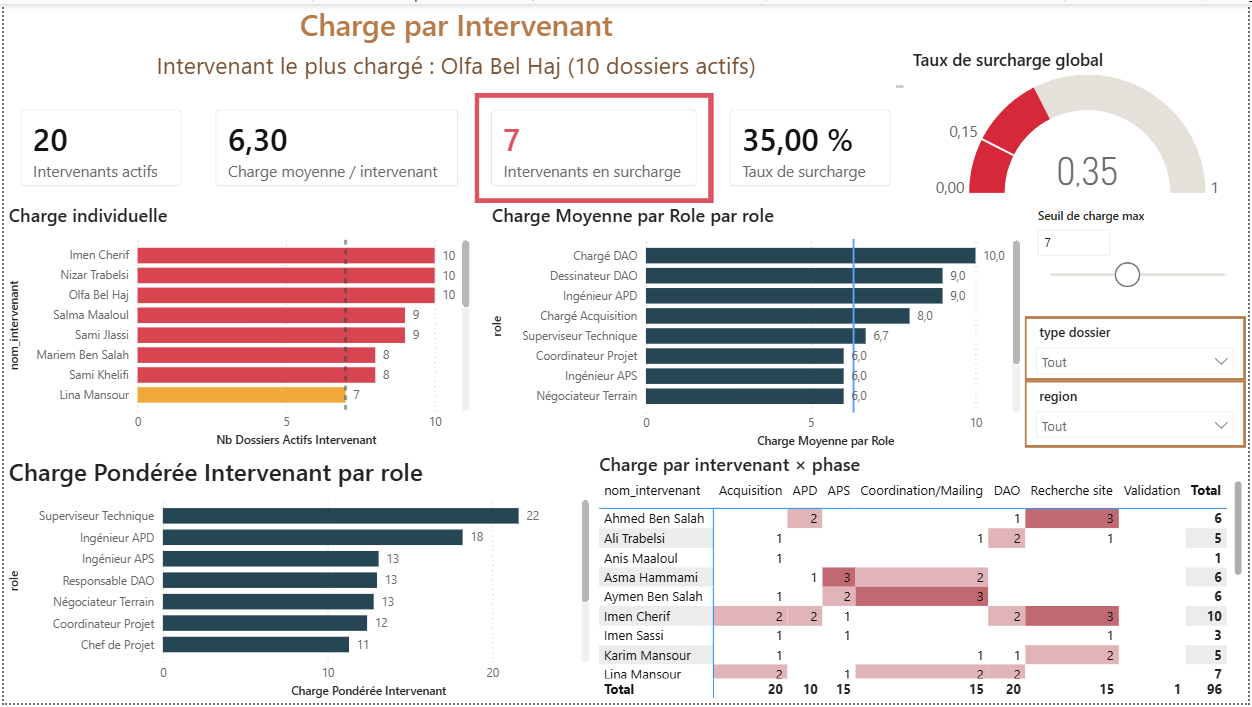

The dashboard page shown, as its layout file describes it:
{"tool":"powerbi","page":{"name":"Charges Intervenant","canvas":[1280,720],"ordinal":3},"visuals":[{"type":"slicer","fields":{"Values":["Dossier.region"]},"box":[1050.6,387.5,228.6,69.8],"z":0},{"type":"slicer","fields":{"Values":["Dossier.type_dossier"]},"box":[1050.6,320.7,228.6,66.8],"z":1000},{"type":"slicer","fields":{"Values":["Seuil de charge max.Seuil de charge max"]},"box":[1050.9,205.1,229,103.1],"z":2000},{"type":"textbox","title":"Charge par Intervenant","box":[0,0,931,91.5],"z":3000},{"type":"cardVisual","fields":{"Data":["Dossier_Intervenant.Nb Intervenants (contexte)"]},"box":[0,91,200.1,113.7],"z":4000},{"type":"cardVisual","fields":{"Data":["Dossier_Intervenant.Taux Intervenants Surcharge"]},"box":[730.6,91.5,200.1,113.7],"z":5000},{"type":"cardVisual","fields":{"Data":["Dossier_Intervenant.Nb Intervenants en Surcharge"]},"box":[484.4,91.5,246.2,113.6],"z":6000},{"type":"cardVisual","fields":{"Data":["Dossier_Intervenant.Charge Moyenne Globale"]},"box":[200.4,91.5,284,113.6],"z":7000},{"type":"clusteredBarChart","title":"Charge individuelle","fields":{"Category":["Intervenant.nom_intervenant"],"Y":["Dossier_Intervenant.Nb Dossiers Actifs Intervenant"]},"box":[0,205.1,484.4,255.6],"z":8000},{"type":"clusteredBarChart","fields":{"Category":["Intervenant.role"],"Y":["Dossier_Intervenant.Charge Moyenne par Role"]},"box":[497.1,205.1,553.9,257.2],"z":9000},{"type":"pivotTable","title":"Charge par intervenant × phase","fields":{"Rows":["Intervenant.nom_intervenant"],"Columns":["Dossier_Intervenant.Phase Actuelle"],"Values":["Dossier_Intervenant.Nb Dossiers Actifs Intervenant"]},"box":[607.5,460.8,672.2,258.8],"z":10000},{"type":"gauge","title":"Taux de surcharge global","fields":{"MaxValue":["Dossier.Maximum taux"],"Y":["Dossier_Intervenant.Taux Intervenants Surcharge"],"TargetValue":["Dossier_Intervenant.Objectif Taux Surcharge"]},"box":[931,45.8,348.7,159.4],"z":11000},{"type":"clusteredBarChart","fields":{"Category":["Intervenant.role"],"Y":["Dossier_Intervenant.Charge Pondérée Intervenant"]},"box":[0,463.9,607.5,255.6],"z":12000}]}

Visuals, with their boxes in screenshot pixels (x1, y1, x2, y2), scaled from the page's 1280x720 canvas onto the 1252x707 screenshot:
slicer - Dossier.region: <bbox>1028, 381, 1251, 449</bbox>
slicer - Dossier.type_dossier: <bbox>1028, 315, 1251, 381</bbox>
slicer - Seuil de charge max.Seuil de charge max: <bbox>1028, 201, 1251, 303</bbox>
"Charge par Intervenant" textbox: <bbox>0, 0, 911, 90</bbox>
cardVisual - Dossier_Intervenant.Nb Intervenants (contexte): <bbox>0, 89, 196, 201</bbox>
cardVisual - Dossier_Intervenant.Taux Intervenants Surcharge: <bbox>715, 90, 910, 201</bbox>
cardVisual - Dossier_Intervenant.Nb Intervenants en Surcharge: <bbox>474, 90, 715, 201</bbox>
cardVisual - Dossier_Intervenant.Charge Moyenne Globale: <bbox>196, 90, 474, 201</bbox>
"Charge individuelle" clusteredBarChart: <bbox>0, 201, 474, 452</bbox>
clusteredBarChart - Intervenant.role x Dossier_Intervenant.Charge Moyenne par Role: <bbox>486, 201, 1028, 454</bbox>
"Charge par intervenant × phase" pivotTable: <bbox>594, 452, 1251, 706</bbox>
"Taux de surcharge global" gauge: <bbox>911, 45, 1251, 201</bbox>
clusteredBarChart - Intervenant.role x Dossier_Intervenant.Charge Pondérée Intervenant: <bbox>0, 456, 594, 706</bbox>
